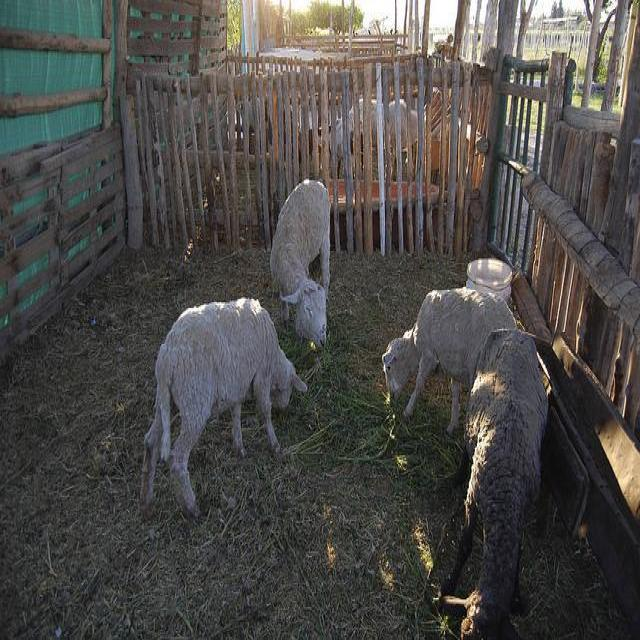Sheep: (140, 299, 307, 523), (439, 323, 551, 639), (382, 288, 520, 436), (269, 182, 331, 341)
